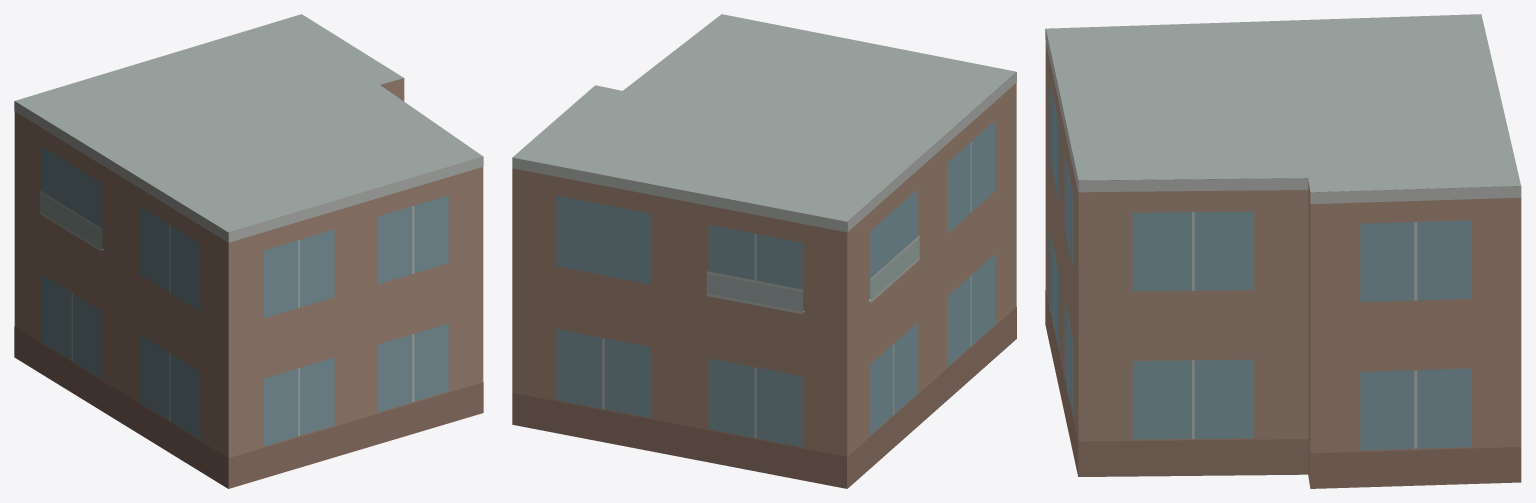
The model's file is survey-upis-32989078.glb.
3 renders of one model, left to right at view 1: azimuth 30°, elevation 25°; view 2: azimuth 150°, elevation 25°; view 3: azimuth 270°, elevation 25°, orthographic. The views are drawn at different scales.
Visible parts, largest first — view 1: survey-upis-32989078.tmp; view 2: survey-upis-32989078.tmp; view 3: survey-upis-32989078.tmp.
Part boxes in pixels (x1,y1,x2,y2): survey-upis-32989078.tmp: (14,14,483,488); survey-upis-32989078.tmp: (512,14,1016,488); survey-upis-32989078.tmp: (1045,14,1521,488).
Bounding box in the file's own units: 7.88 × 6.1 × 8.88.
